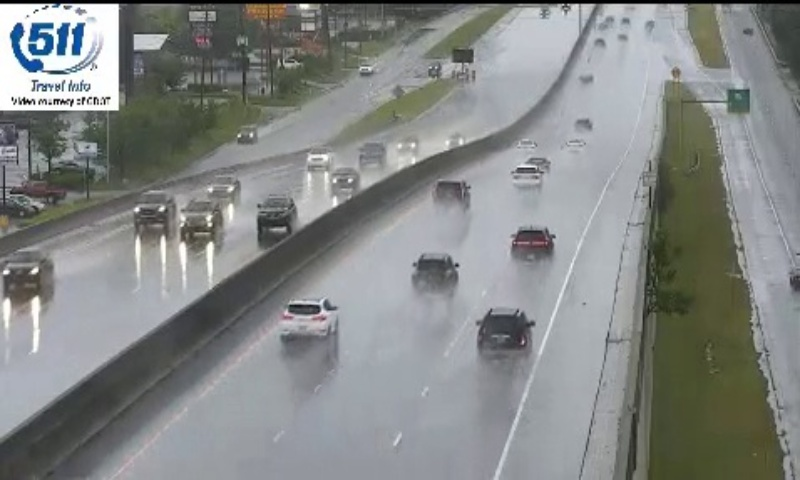car: (281, 297, 339, 342), (477, 308, 532, 355), (412, 253, 457, 291), (511, 226, 554, 260), (432, 178, 471, 212), (510, 163, 542, 190)
